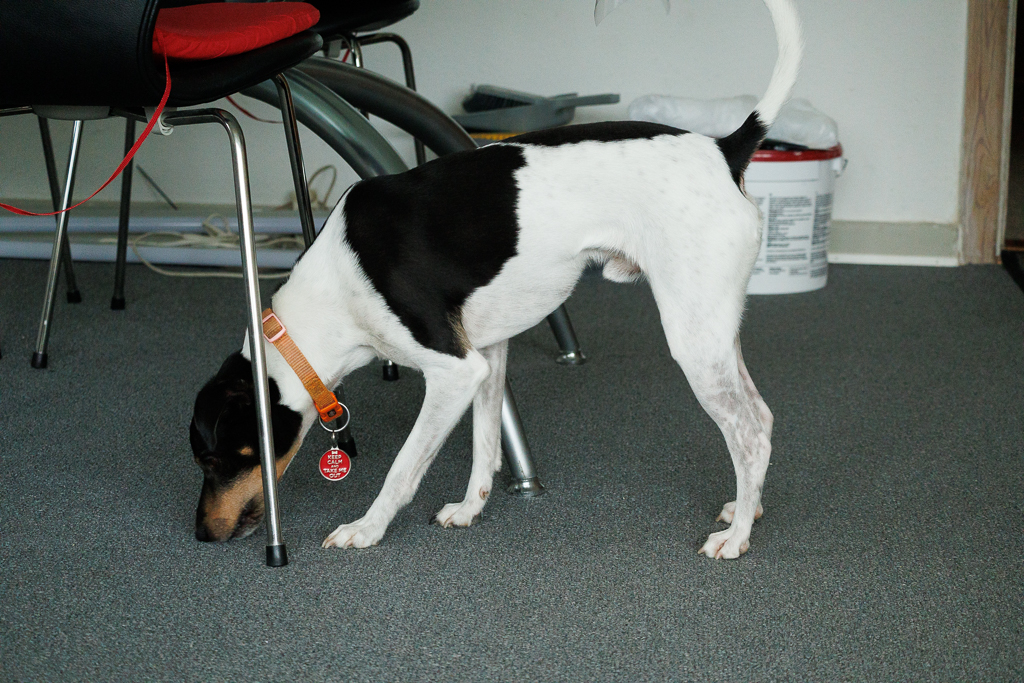Dog: (181, 0, 814, 562)
